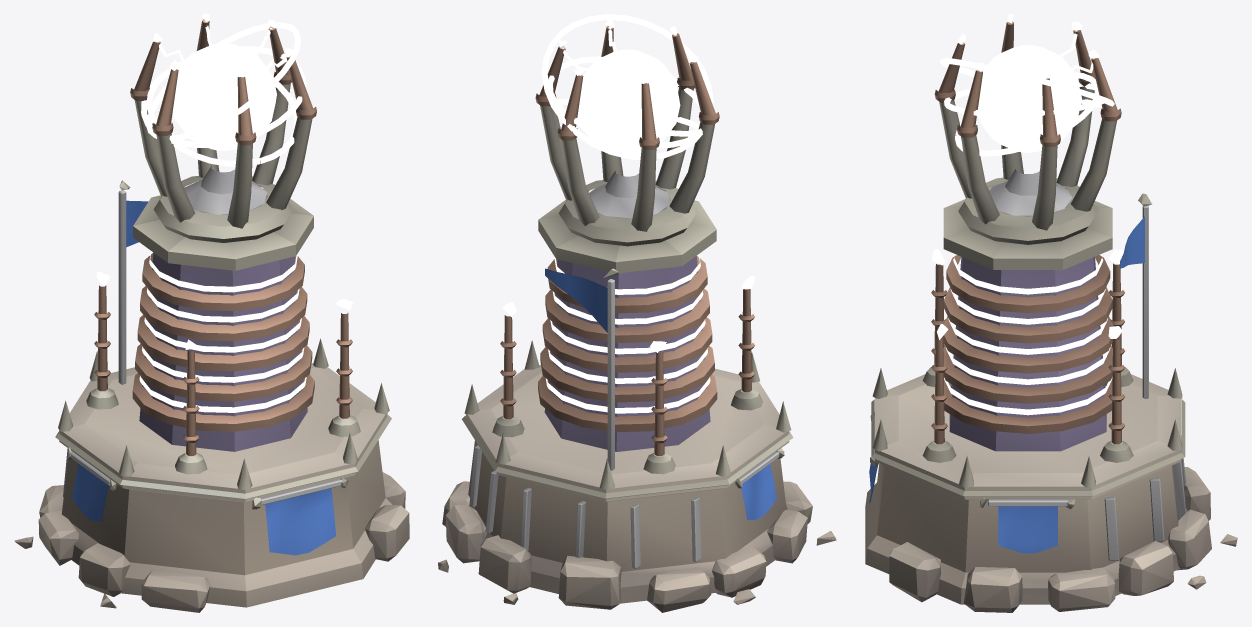
Rendered from spark_1_10.glb.
3 renders of one model, left to right at view 1: azimuth 30°, elevation 25°; view 2: azimuth 150°, elevation 25°; view 3: azimuth 270°, elevation 25°, orthographic.
Parts seen in each view (by area): view 1: Tower, Turret; view 2: Tower, Turret; view 3: Tower, Turret.
Part boxes in pixels (left/top/right/bottom): Tower: left=14, top=180, right=409, bottom=612; Turret: left=130, top=14, right=316, bottom=242; Tower: left=438, top=195, right=836, bottom=612; Turret: left=535, top=14, right=719, bottom=246; Tower: left=865, top=188, right=1237, bottom=612; Turret: left=934, top=14, right=1121, bottom=244.
Size of the model in its own units: 3.56 by 5.24 by 3.51.
